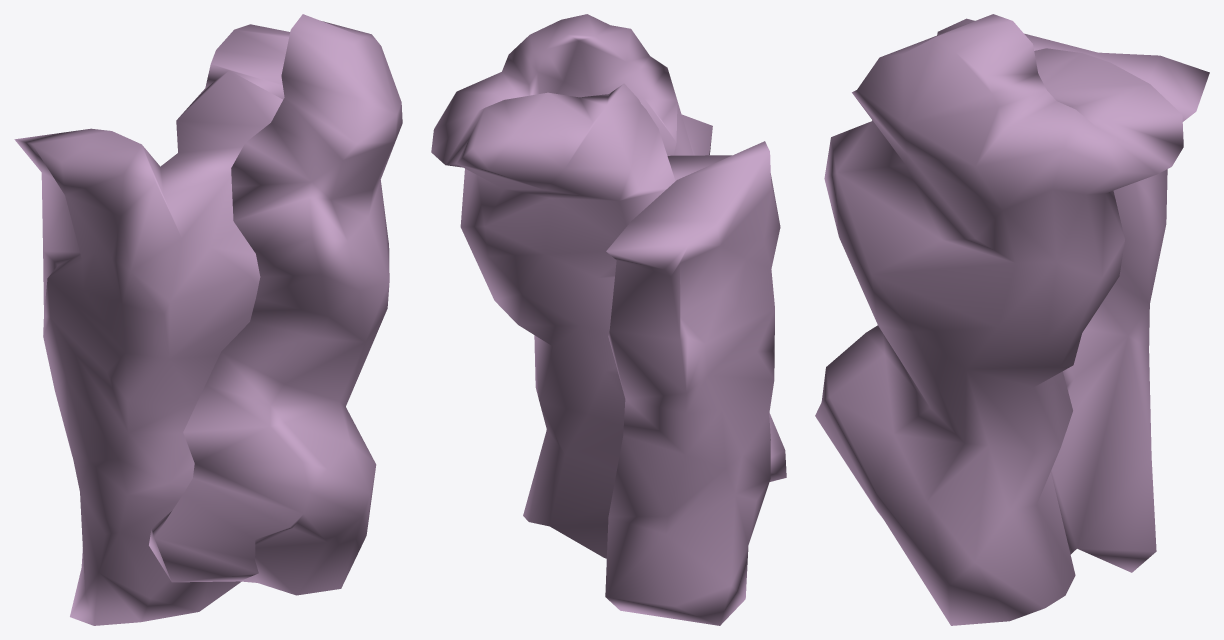
3 renders of one model, left to right at view 1: azimuth 30°, elevation 25°; view 2: azimuth 150°, elevation 25°; view 3: azimuth 270°, elevation 25°, orthographic. The views are drawn at different scales.
Visible parts, largest first — view 1: 左侧扣带回与扣带沟中后部; view 2: 左侧扣带回与扣带沟中后部; view 3: 左侧扣带回与扣带沟中后部.
Boxes of the visible parts, x1,y1,x2,y2 form: 左侧扣带回与扣带沟中后部: (14,14,402,625); 左侧扣带回与扣带沟中后部: (431,14,786,625); 左侧扣带回与扣带沟中后部: (815,14,1209,625).
Size of the model in its own units: 0.0266 by 0.0487 by 0.0279.
